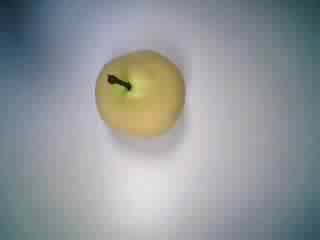pear: (80, 40, 194, 143)
